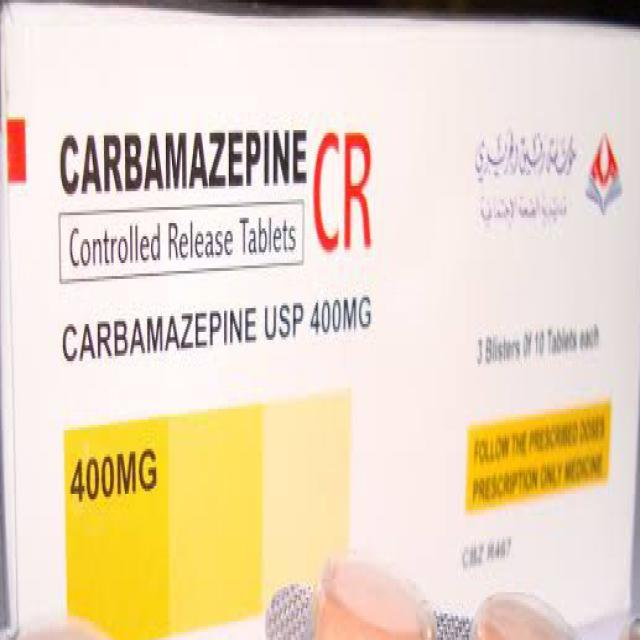drug-name: (58, 123, 314, 197)
